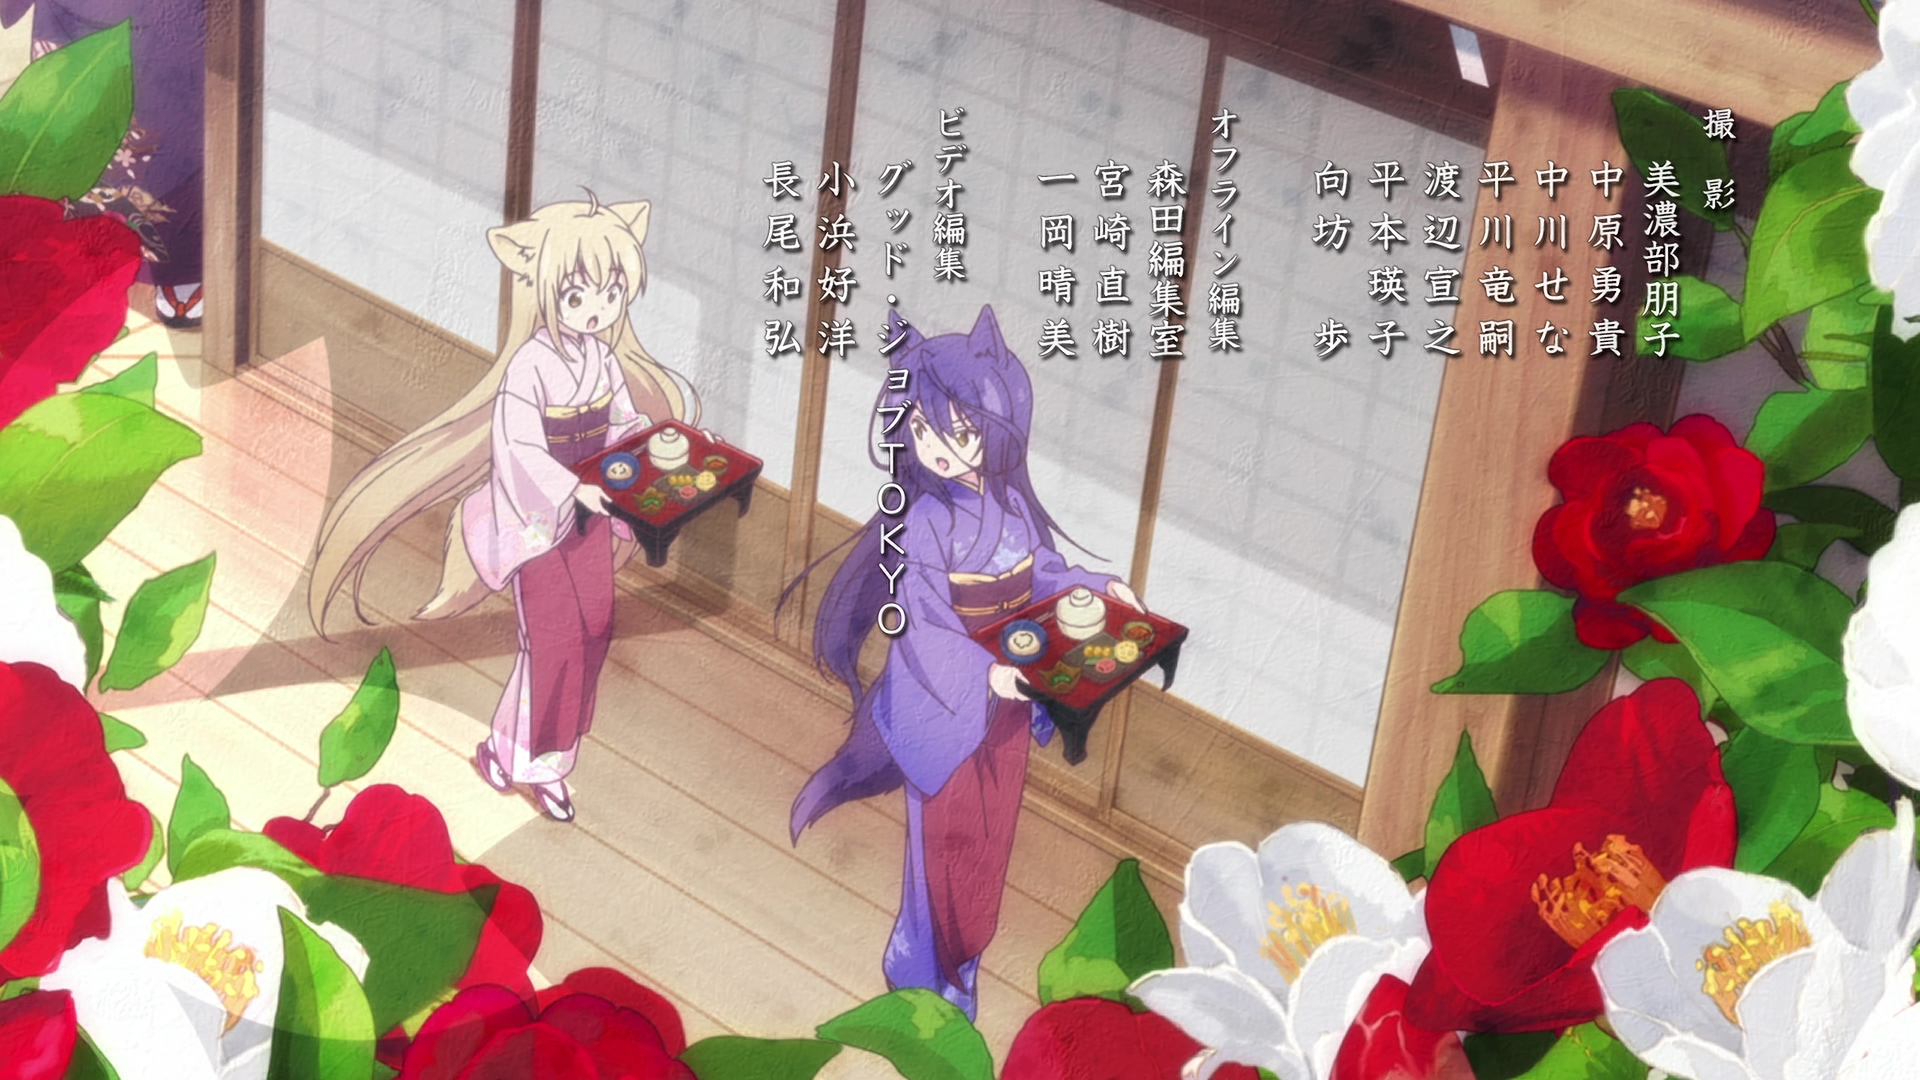其他: (1, 1, 204, 328)
柚: (307, 186, 766, 823)
皋: (774, 301, 1188, 1027)
